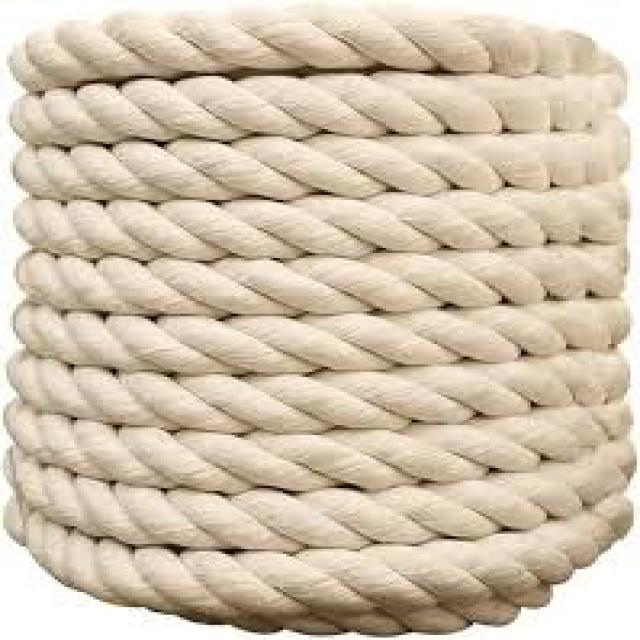Rope: (1, 4, 640, 637)
